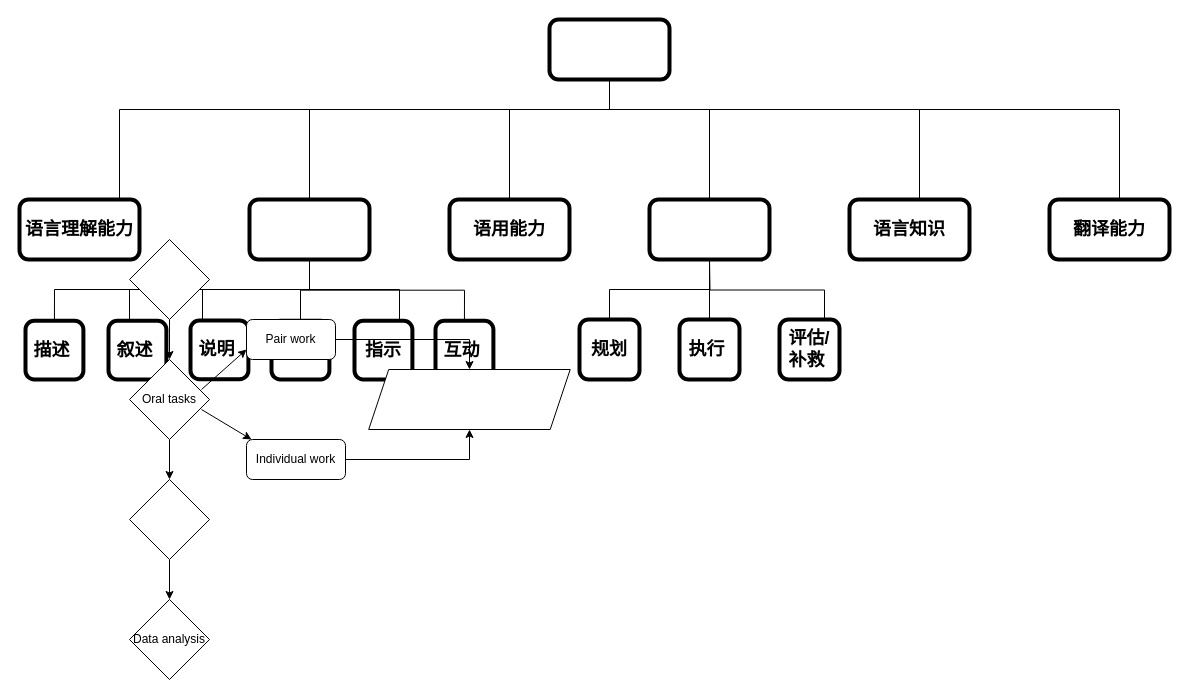
Image size: 1188x697. Some labels were removed from this diagram. Here are the shapes that lost their labels. From the top down, the centre of each, then its label:
the point at 609,49: 能力描述框架
the point at 309,229: 语言表达能力
the point at 709,229: 语言使用策略
the point at 169,279: Trainning
the point at 469,399: Learners: tasks & rating scales; Teachers: rating scales
the point at 169,519: Questionnaires
